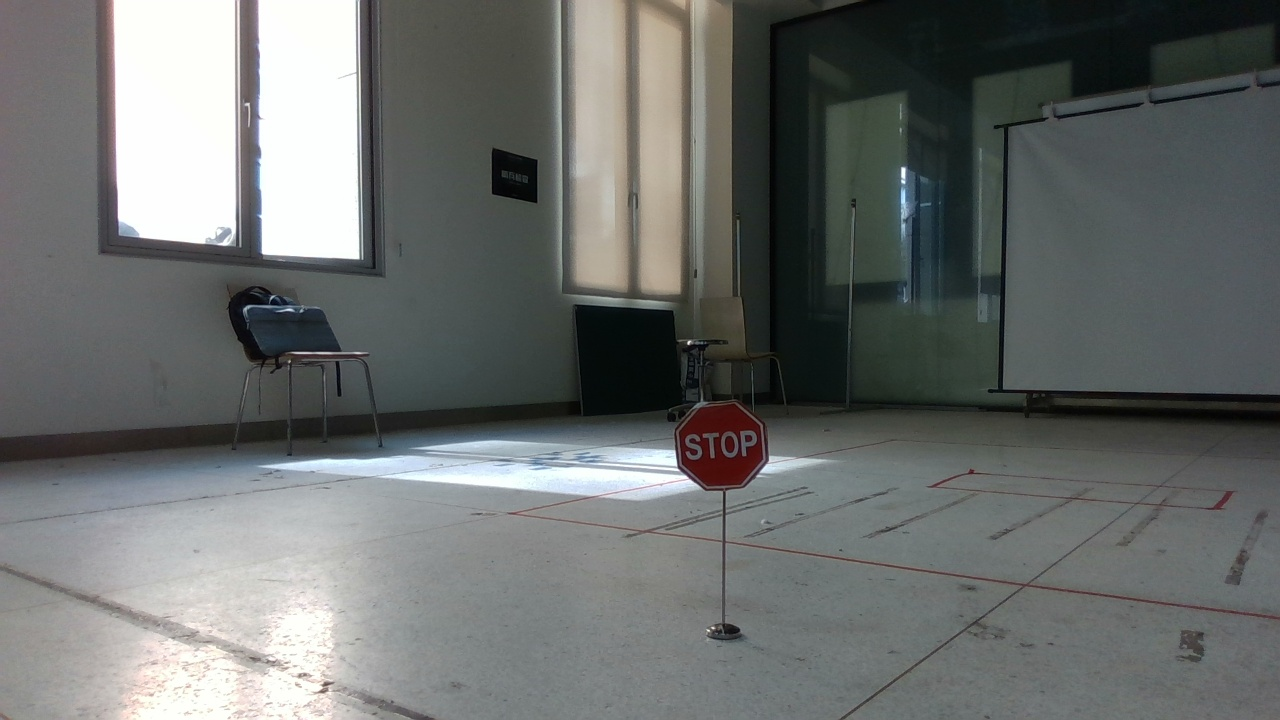stop_sign: (667, 397, 783, 503)
